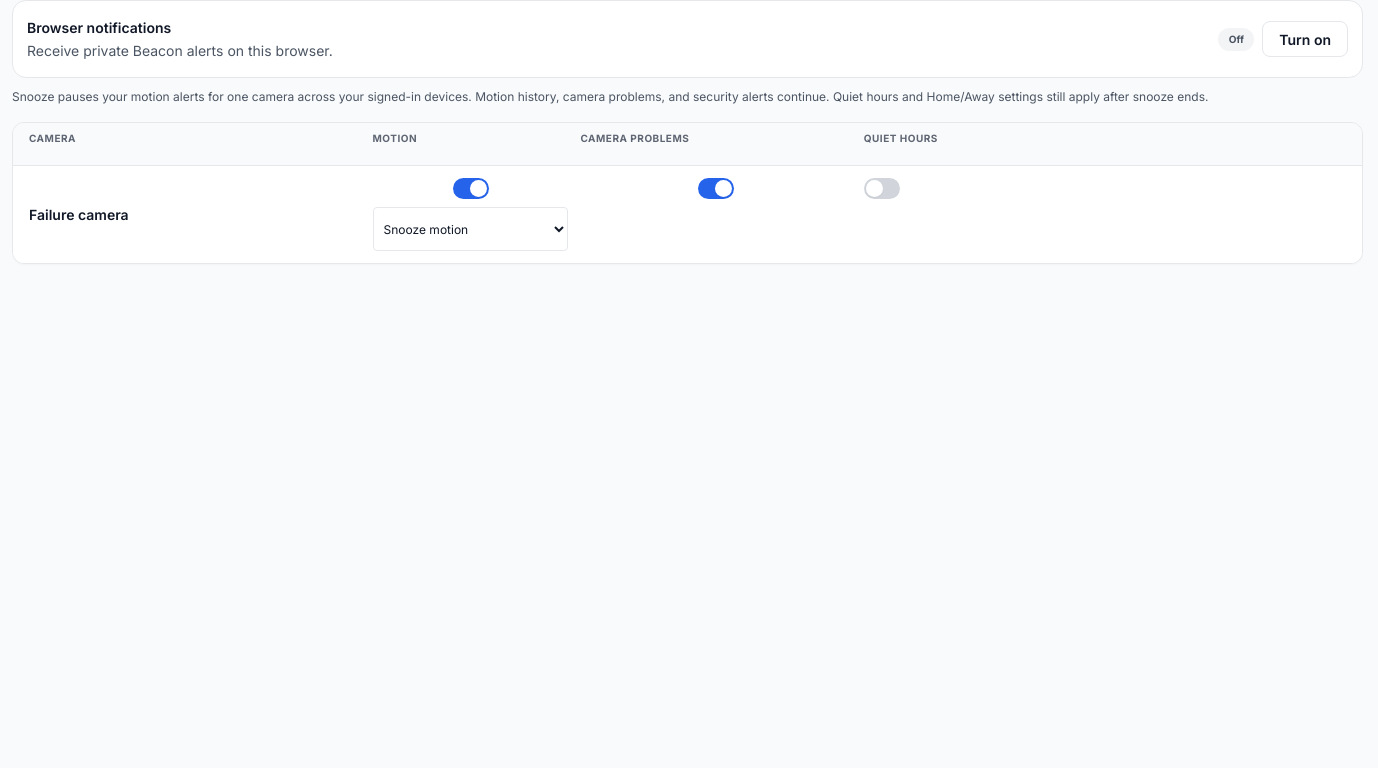
Test: NotificationSettings › restores the confirmed state if snooze cannot be saved
The image size is (1378, 768).
Select "30 minutes" in the dropdown named "Snooze motion alerts for Failure camera" at point(470, 229), box left=372, top=207, right=568, bottom=251
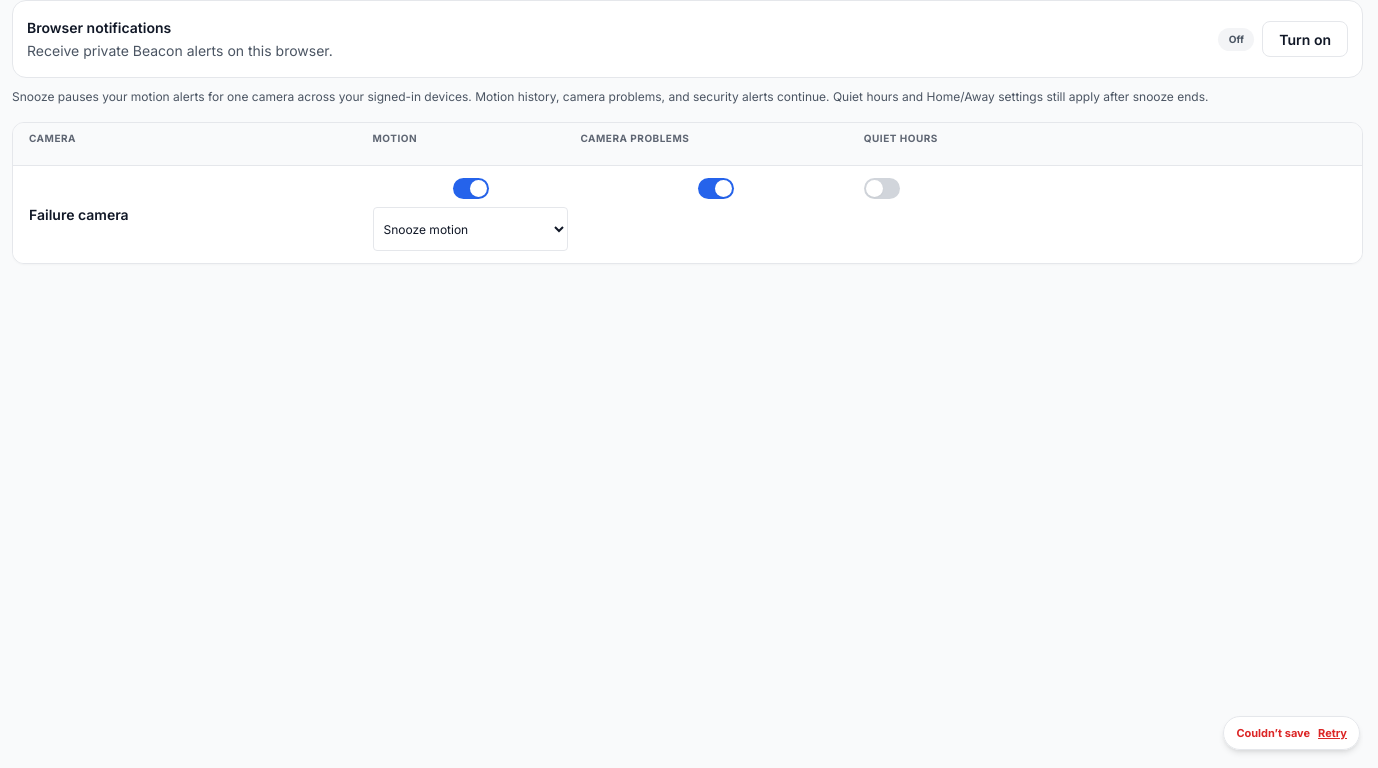
Expected: the switch named "Motion alerts for Failure camera" is checked, left=452, top=178, right=488, bottom=199
Expected: the text "Couldn’t save Retry" is shown, left=1223, top=716, right=1360, bottom=750
